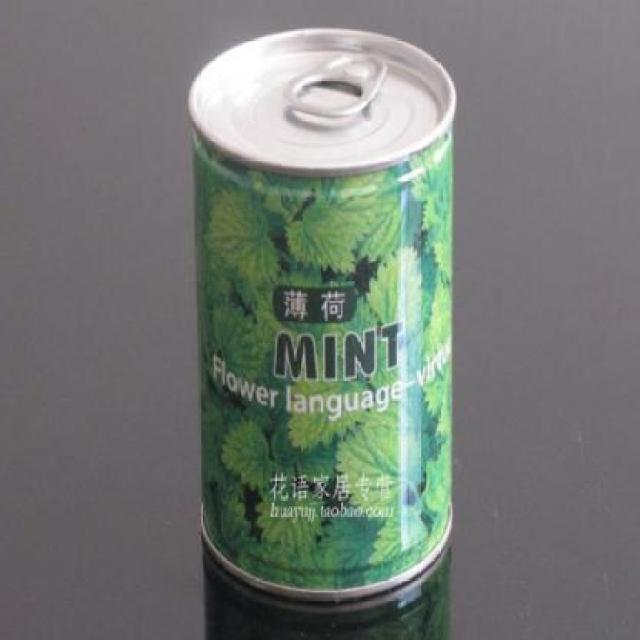Metal: (186, 25, 454, 605)
